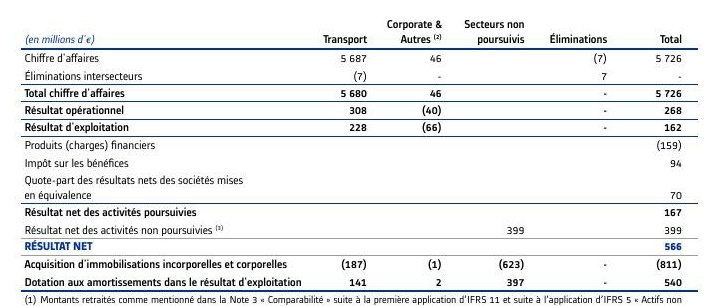table: (0, 0, 706, 306)
